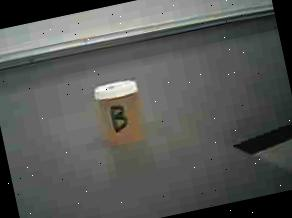Bottle B: (92, 71, 158, 156)
